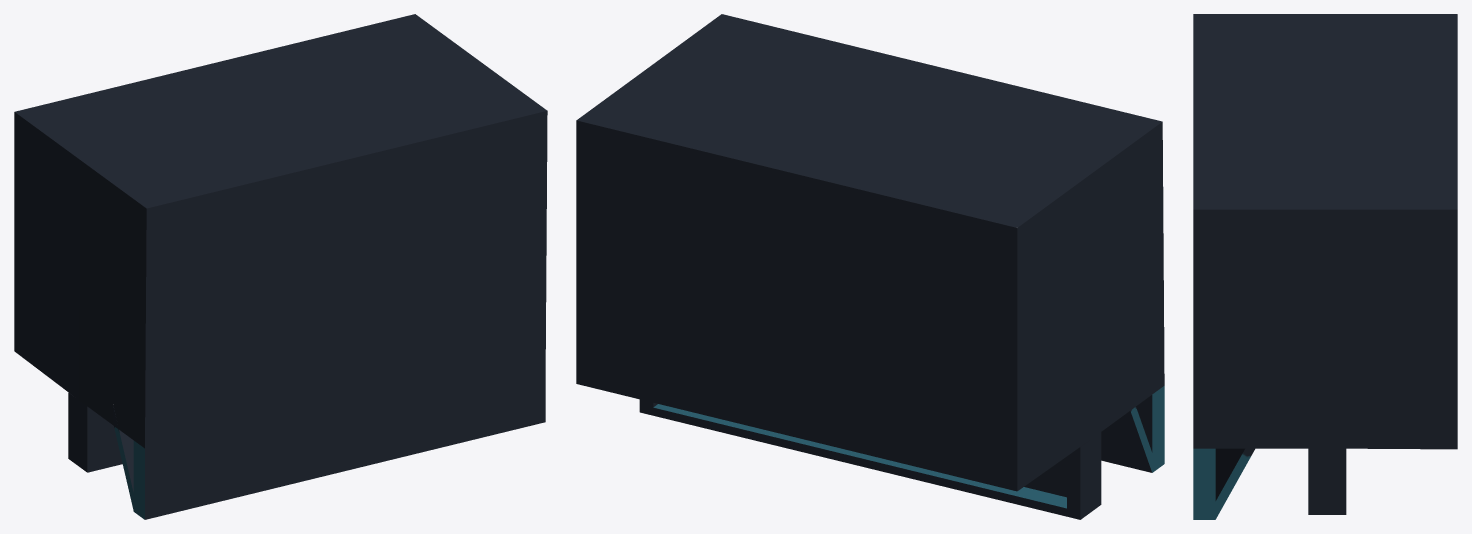
The model's file is house6.glb.
3 renders of one model, left to right at view 1: azimuth 30°, elevation 25°; view 2: azimuth 150°, elevation 25°; view 3: azimuth 270°, elevation 25°, orthographic. The views are drawn at different scales.
Parts seen in each view (by area): view 1: house5 -col; view 2: house5 -col; view 3: house5 -col.
Boxes of the visible parts, x1,y1,x2,y2 form: house5 -col: [14, 14, 547, 519]; house5 -col: [576, 14, 1164, 519]; house5 -col: [1193, 14, 1457, 519].
Bounding box in the file's own units: 11.23 × 8.29 × 6.39.
1 material, 1 textured.
